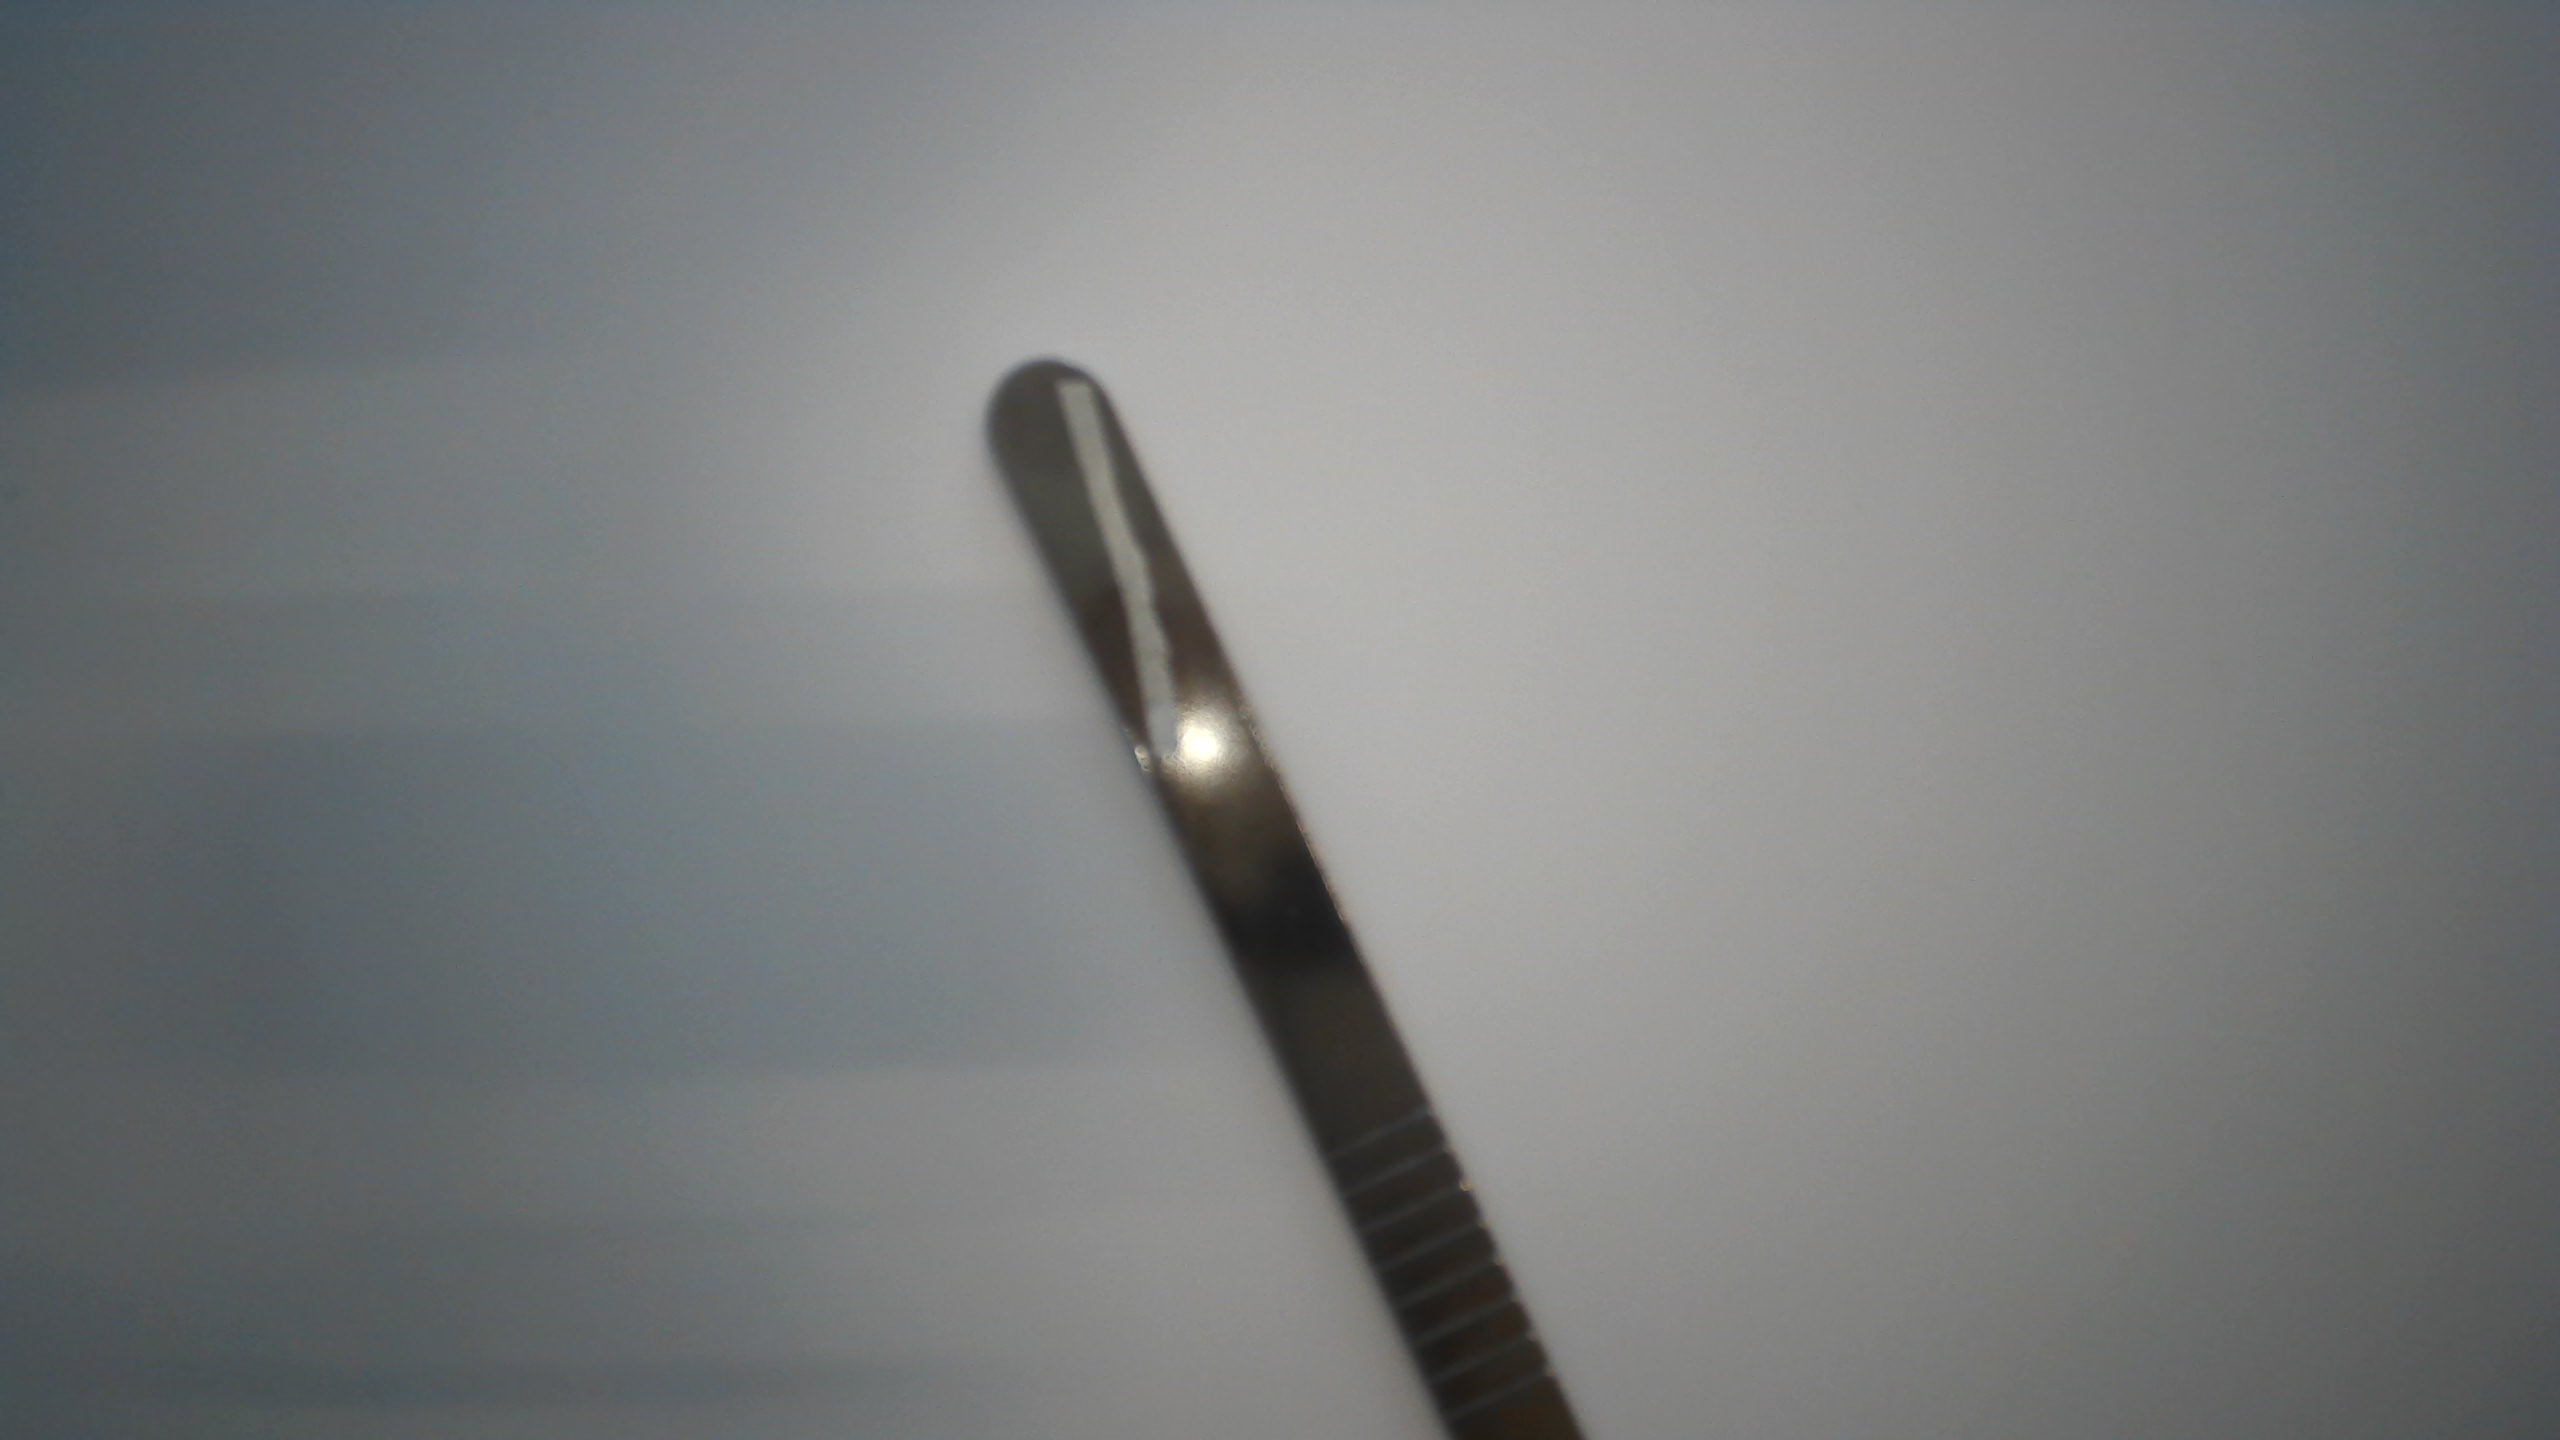Scratches: (1046, 367, 1190, 768)
